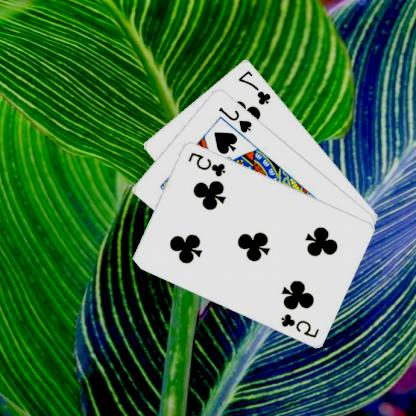5C: (279, 310, 322, 339), (187, 149, 228, 178)
7C: (237, 68, 274, 106)
JS: (218, 104, 255, 134)
